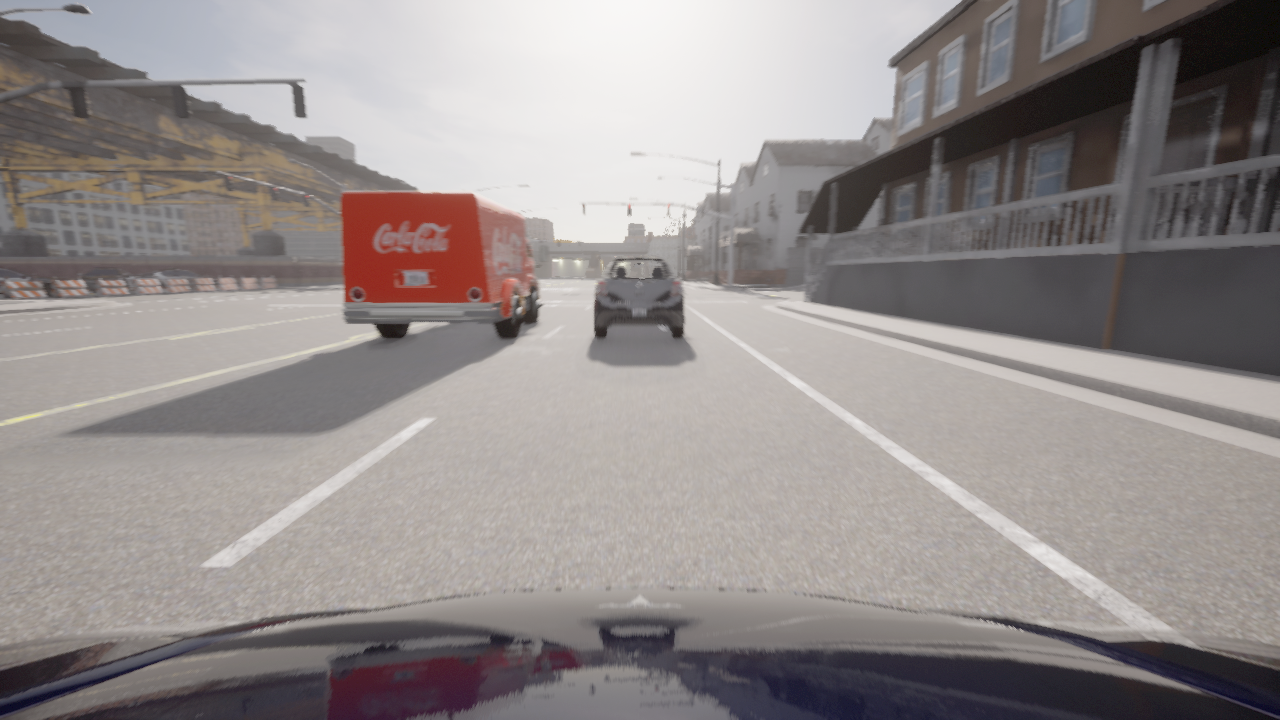cyclist: (0, 588, 1279, 719), (340, 191, 547, 338), (593, 257, 684, 338), (0, 268, 78, 297), (134, 268, 218, 290), (76, 267, 136, 293), (78, 273, 125, 274)
